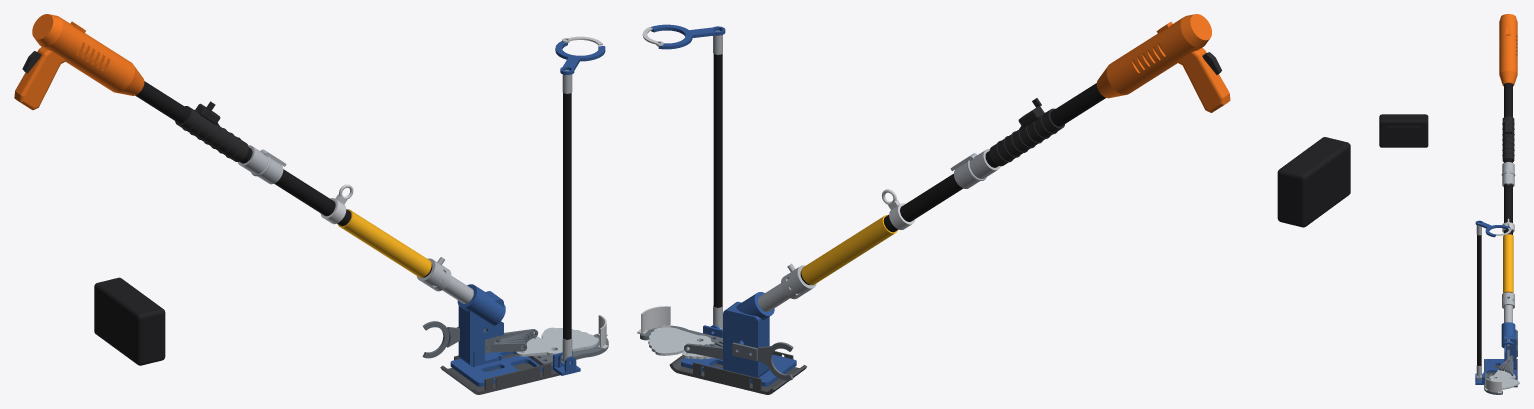
File: cortadora.glb
3 renders of one model, left to right at view 1: azimuth 30°, elevation 25°; view 2: azimuth 150°, elevation 25°; view 3: azimuth 270°, elevation 25°, orthographic. The views are drawn at different scales.
Parts seen in each view (by area): view 1: C05, P23, P04, P11, P17, P20, P07, P24, P05, P16, P19, P18 (+6 smaller); view 2: C05, P23, P04, P11, P17, P20, P07, P24, P16, P19, P18, P10 (+4 smaller); view 3: C05, P23, P11, P17, P04, P20, P16, P19, P18, P05, P13, P03 (+3 smaller).
Part boxes in pixels (x1,y1,x2,y2): C05: [94, 277, 165, 365]; P23: [32, 14, 144, 95]; P04: [457, 284, 505, 366]; P11: [563, 93, 571, 339]; P17: [338, 209, 431, 277]; P20: [175, 101, 248, 161]; P07: [440, 354, 560, 394]; P24: [14, 47, 66, 110]; P05: [450, 351, 557, 386]; P16: [274, 169, 432, 277]; P19: [135, 81, 252, 163]; P18: [238, 145, 286, 184]; C05: [1277, 137, 1350, 227]; P23: [1096, 14, 1211, 98]; P04: [723, 292, 774, 378]; P11: [713, 54, 722, 307]; P17: [801, 215, 897, 285]; P20: [989, 98, 1064, 166]; P07: [669, 351, 806, 394]; P24: [1177, 47, 1230, 112]; P16: [800, 173, 962, 284]; P19: [985, 83, 1105, 167]; P18: [950, 149, 1000, 188]; P10: [732, 342, 793, 380]; C05: [1379, 114, 1428, 147]; P23: [1499, 14, 1517, 86]; P11: [1477, 235, 1481, 365]; P17: [1503, 234, 1513, 293]; P04: [1501, 322, 1516, 369]; P20: [1502, 116, 1514, 161]; P16: [1504, 183, 1512, 292]; P19: [1504, 83, 1512, 162]; P18: [1501, 162, 1515, 186]; P05: [1485, 359, 1516, 379]; P13: [1475, 220, 1511, 237]; P03: [1484, 378, 1501, 393].
Bounding box in the file's own units: 1.24 × 0.9402 × 0.4866.
